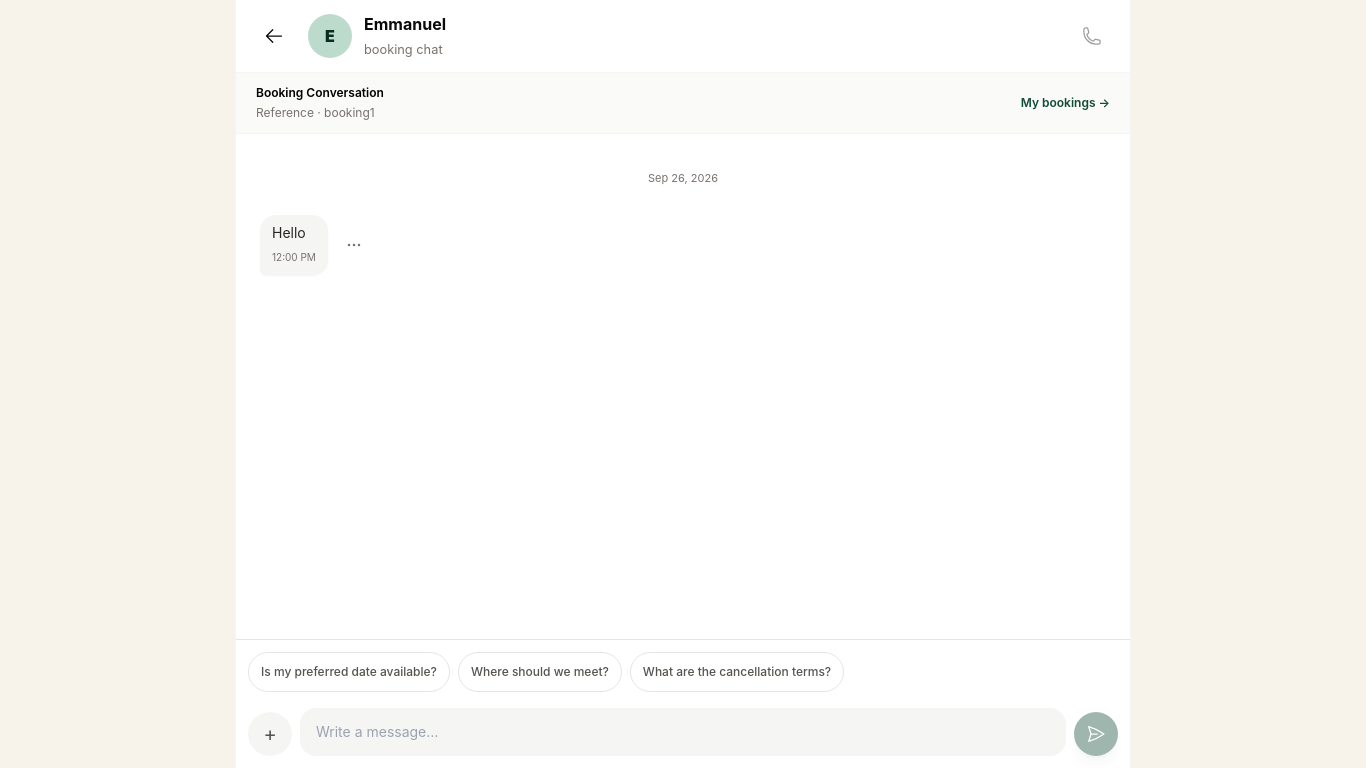
Test: keeps booking context, media tools, and text sending usable
Expected: the text "Hello" is shown, [272,224,306,240]
Click the button named "Message tools": (270, 734) [248,712,292,756]
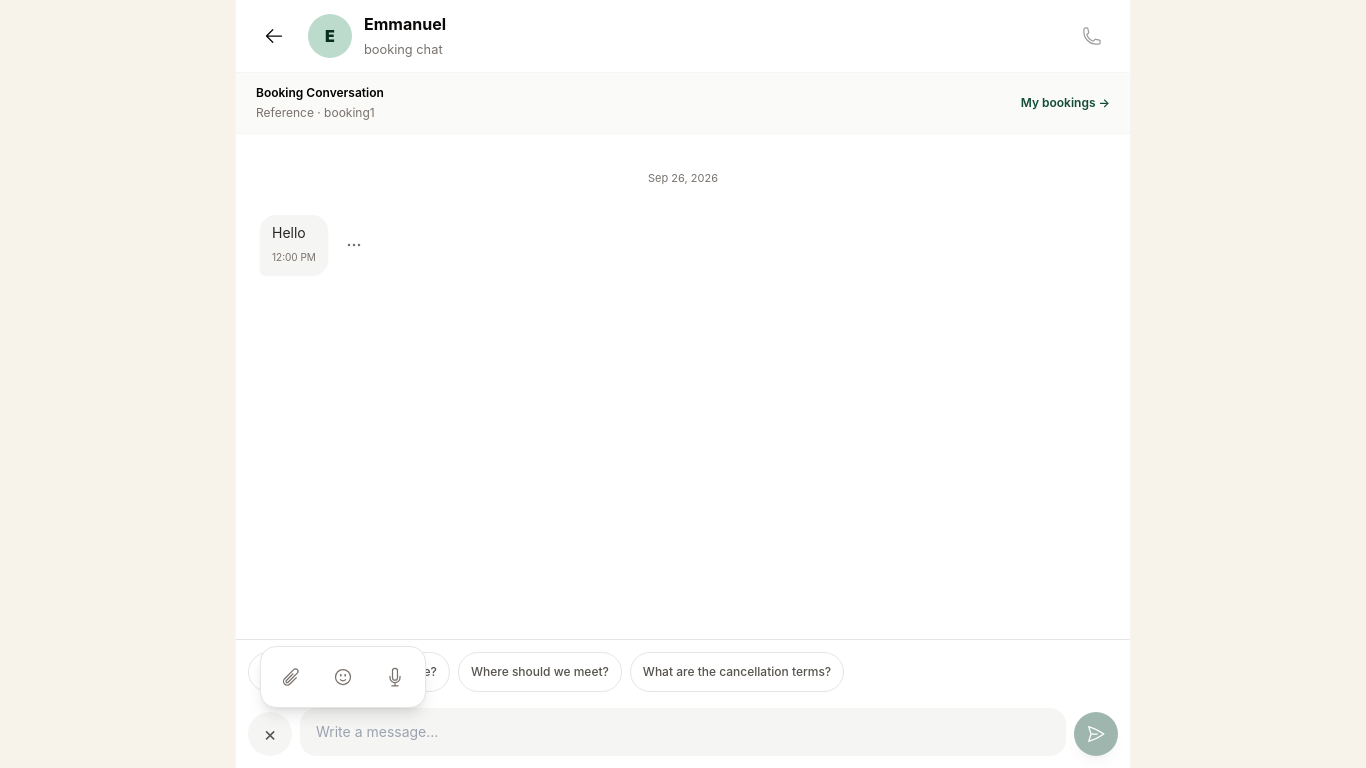
Result: the button named "Add attachment" is shown at [269,655,313,699]
Result: the button named "Record voice note" is shown at [373,655,417,699]
In the text box labelled "message": (683, 732) [300,708,1066,756], type "Thanks"
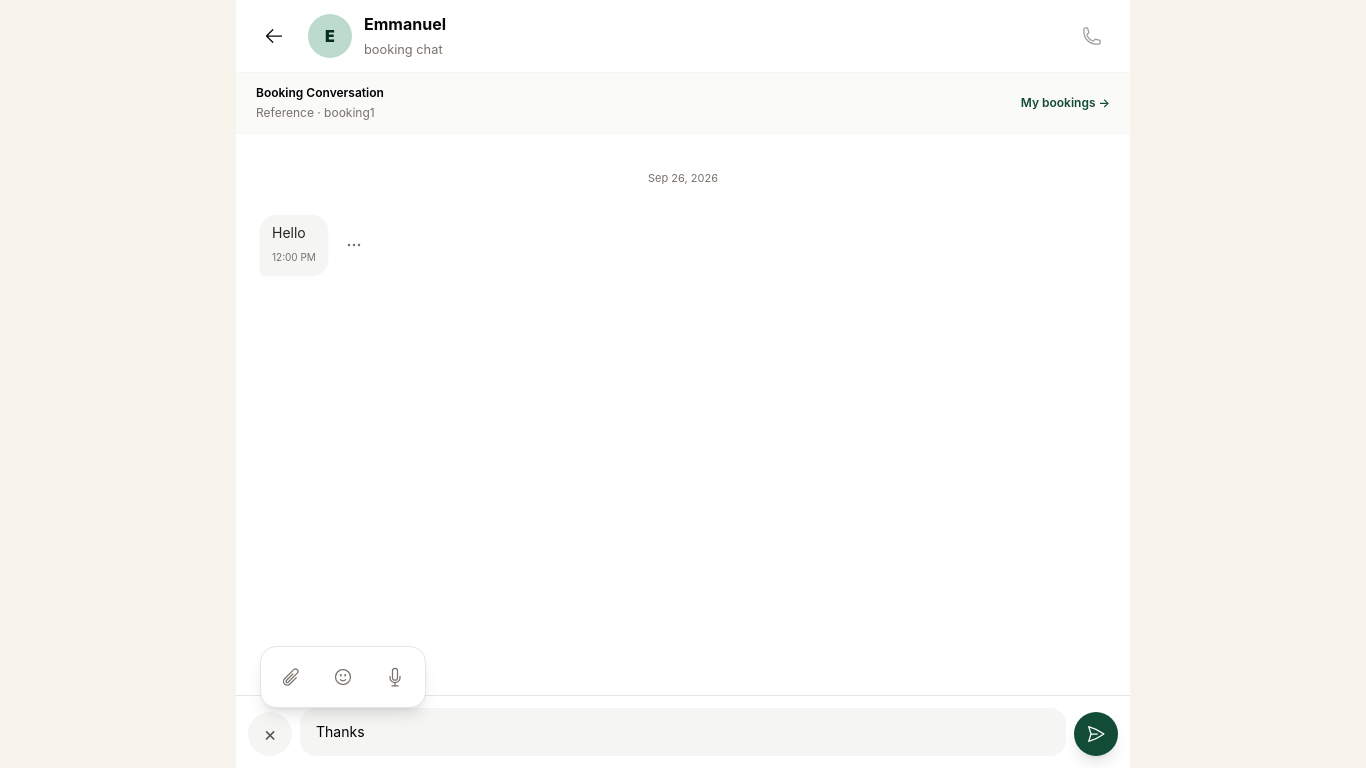
Click the button named "Send message": (1096, 734) [1074,712,1118,756]
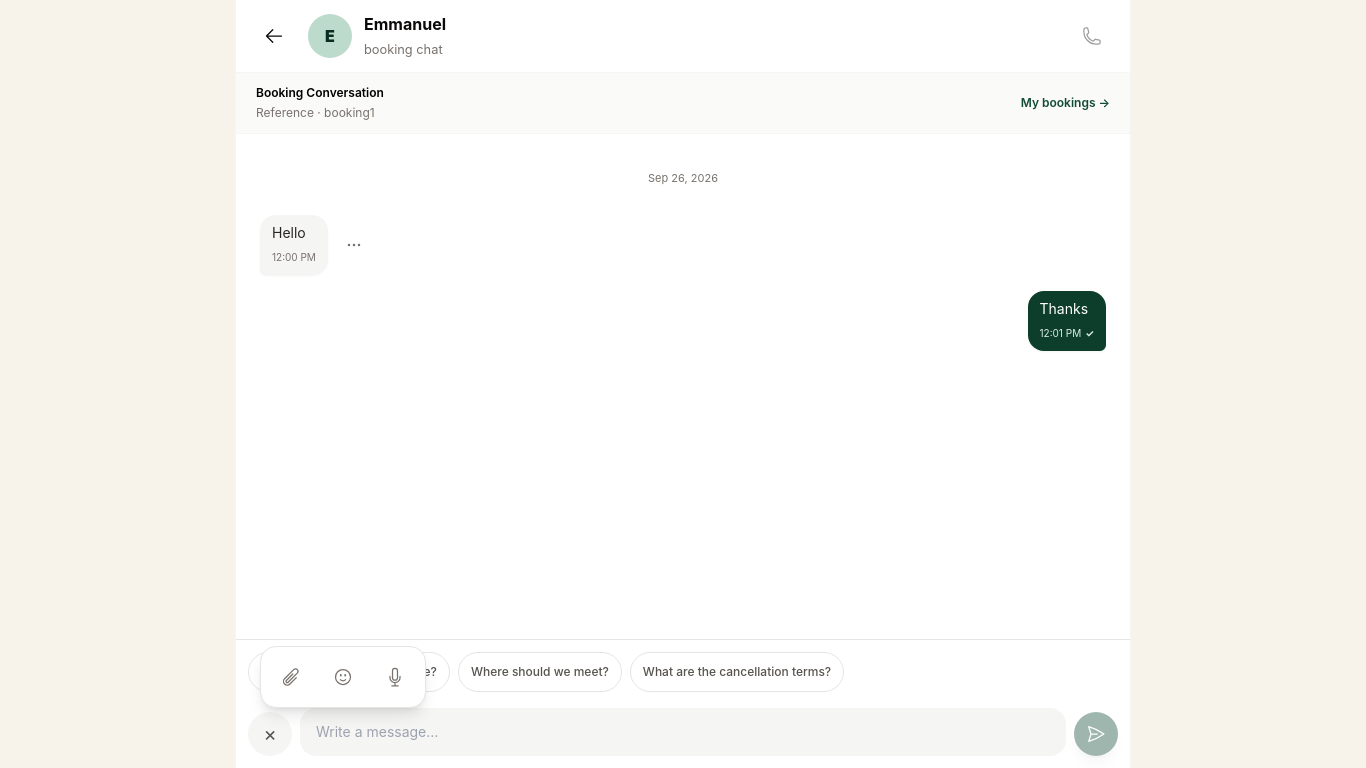
Result: the text "Thanks" is shown at [1040,298,1094,318]
